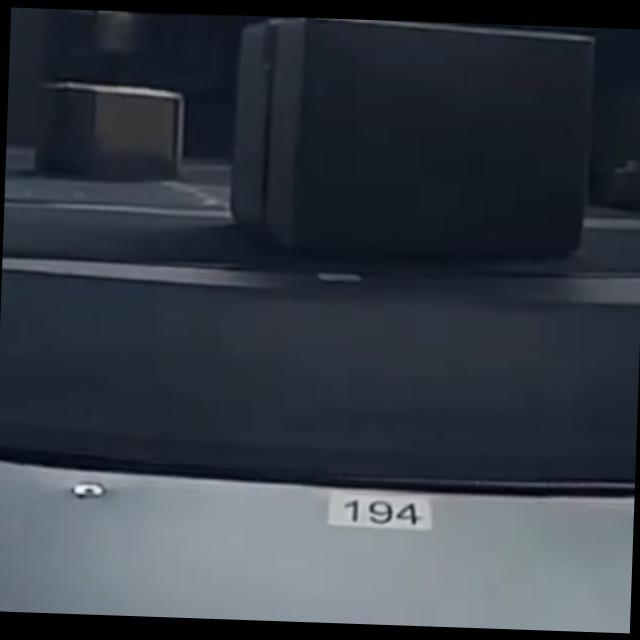box: (226, 15, 603, 262), (36, 80, 182, 183)
